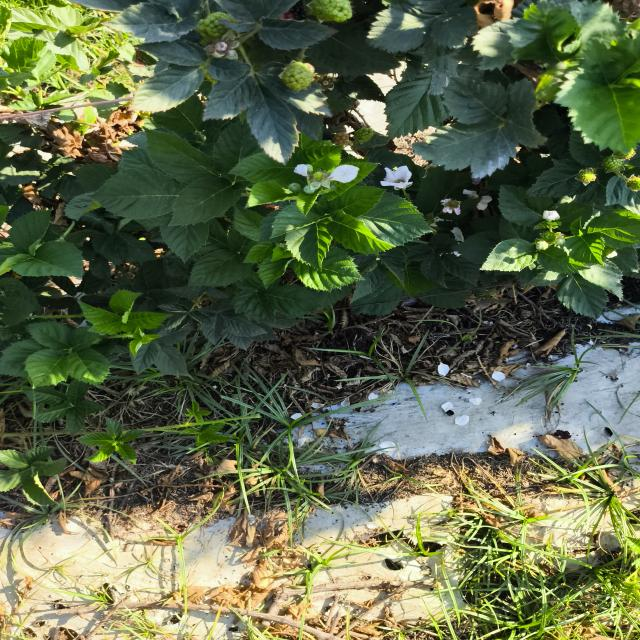boton: (542, 210, 560, 221), (535, 240, 549, 251)
flor: (295, 165, 357, 193)
verde: (197, 12, 235, 40), (281, 61, 314, 90), (310, 0, 352, 22)
